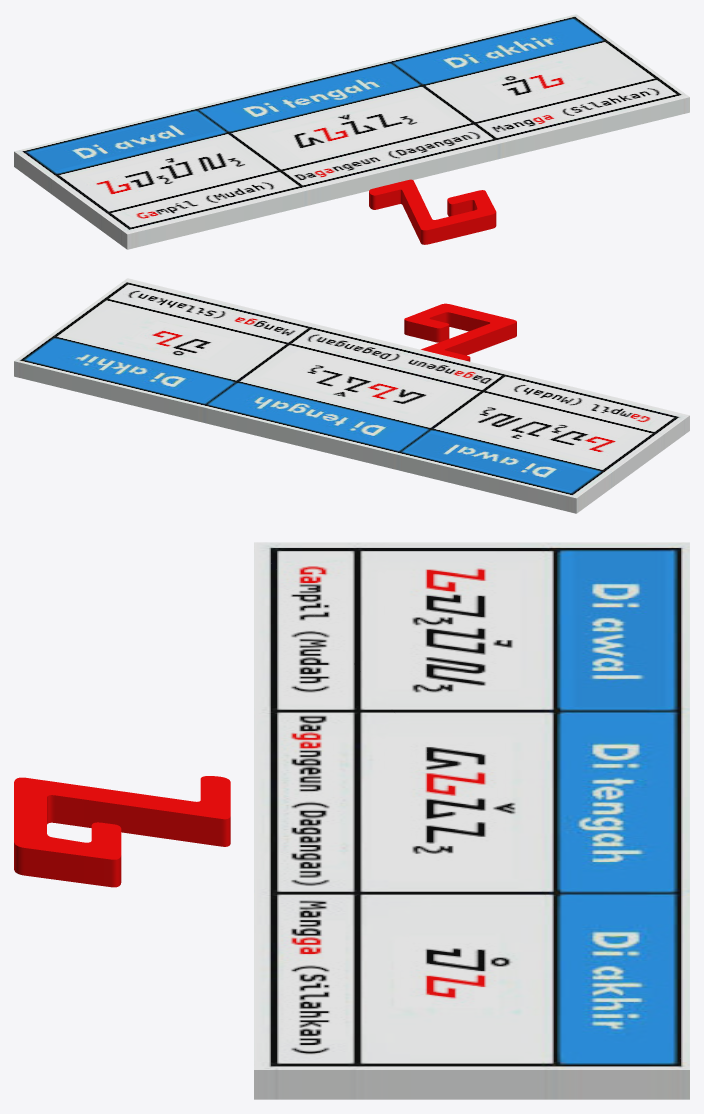
3 renders of one model, top to bottom at view 1: azimuth 30°, elevation 25°; view 2: azimuth 150°, elevation 25°; view 3: azimuth 270°, elevation 25°, orthographic. The views are drawn at different scales.
Parts seen in each view (by area): view 1: contoh-bunyi-huruf-ga-Ngalagena, Text; view 2: contoh-bunyi-huruf-ga-Ngalagena, Text; view 3: contoh-bunyi-huruf-ga-Ngalagena, Text.
Part boxes in pixels (x1,y1,x2,y2): contoh-bunyi-huruf-ga-Ngalagena: (14, 14, 689, 249); Text: (369, 179, 496, 244); contoh-bunyi-huruf-ga-Ngalagena: (14, 278, 689, 513); Text: (404, 303, 516, 361); contoh-bunyi-huruf-ga-Ngalagena: (254, 542, 689, 1099); Text: (14, 776, 230, 887).
Size of the model in its own units: 2.86 by 0.11 by 1.55.
Materials: 2 (1 with a texture image).
